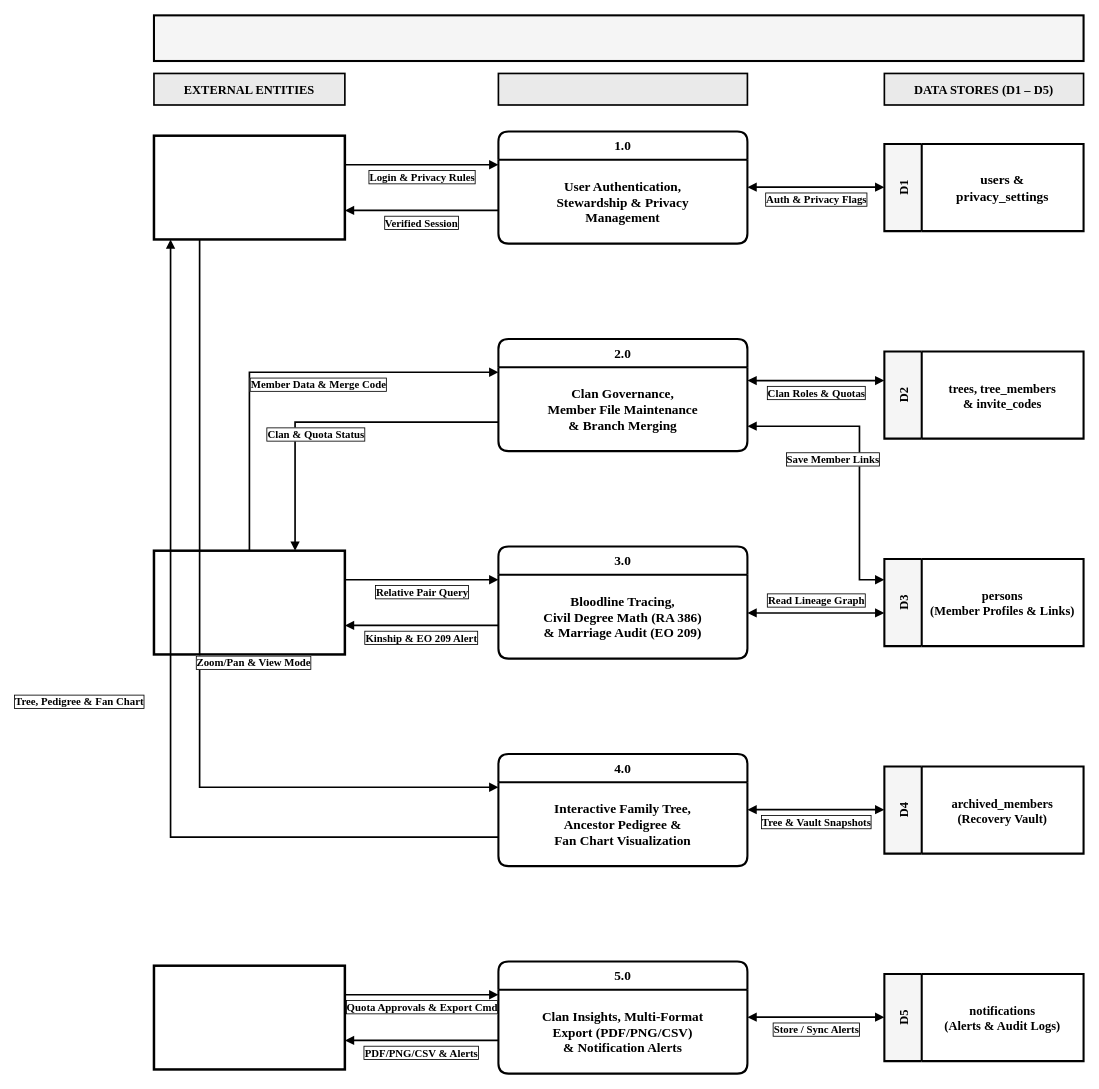
Image size: 1099x1089. Some labels were removed from this diagram. The shapes that lost their labels are listed below. From the top down, each one's centre as x and y in pixels, then its label:
At pixel 618 38: "DATA FLOW DIAGRAM — LEVEL 1 (KinTrace System)".
At pixel 622 88: "CORE SYSTEM PROCESSES (1.0 – 5.0)".
At pixel 249 187: "User / Family Clan Member".
At pixel 249 602: "Tree Owner / Clan Administrator".
At pixel 249 1017: "System Administrator (Admin Citadel)".
